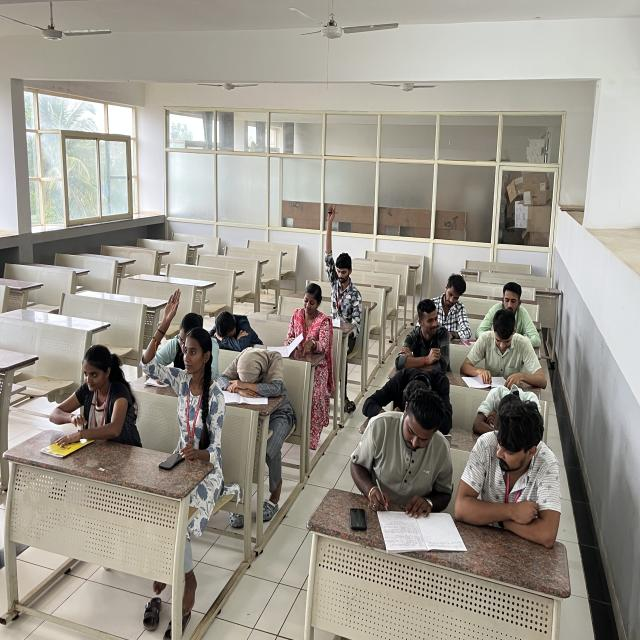Hand Rising: (147, 294, 222, 438), (319, 208, 362, 320)
Reading: (464, 311, 550, 387)
Sleeping: (218, 343, 288, 398), (210, 310, 264, 351)
Writing: (344, 397, 452, 541)
